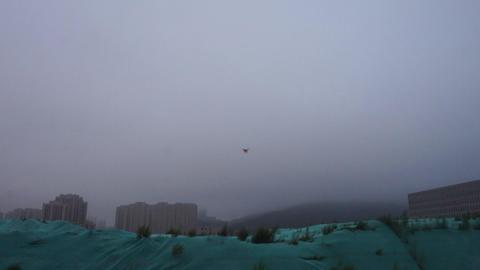UAV: (242, 148, 250, 154)
